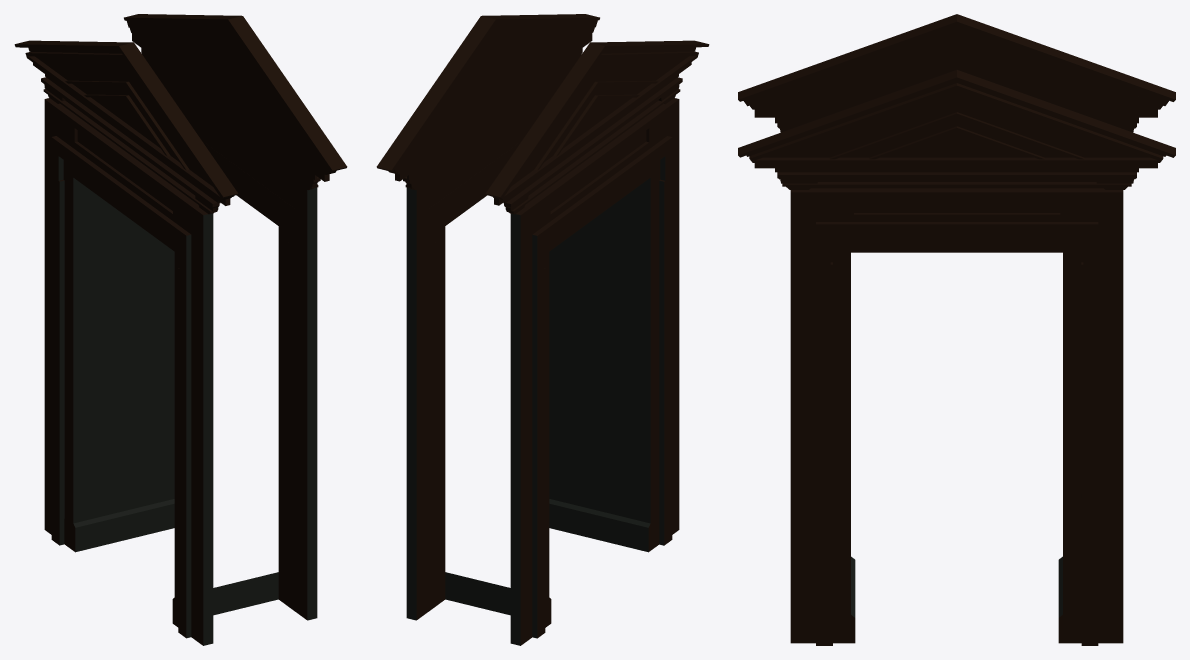
Rendered from portal_FBX.FBX.
The picture shows the model from 3 angles, left to right: view 1: azimuth 30°, elevation 25°; view 2: azimuth 150°, elevation 25°; view 3: azimuth 270°, elevation 25°; orthographic projection. The views are drawn at different scales.
Parts seen in each view (by area): view 1: portal008, port; view 2: portal008, port; view 3: portal008, port.
Boxes of the visible parts, box(x1,y1,x2,y2) form: portal008: box(83, 14, 347, 620); port: box(14, 40, 238, 645); portal008: box(376, 14, 640, 620); port: box(485, 40, 709, 645); portal008: box(738, 70, 1175, 645); port: box(738, 14, 1175, 564).
Size of the model in its own units: 1.25 by 5.22 by 3.64.
